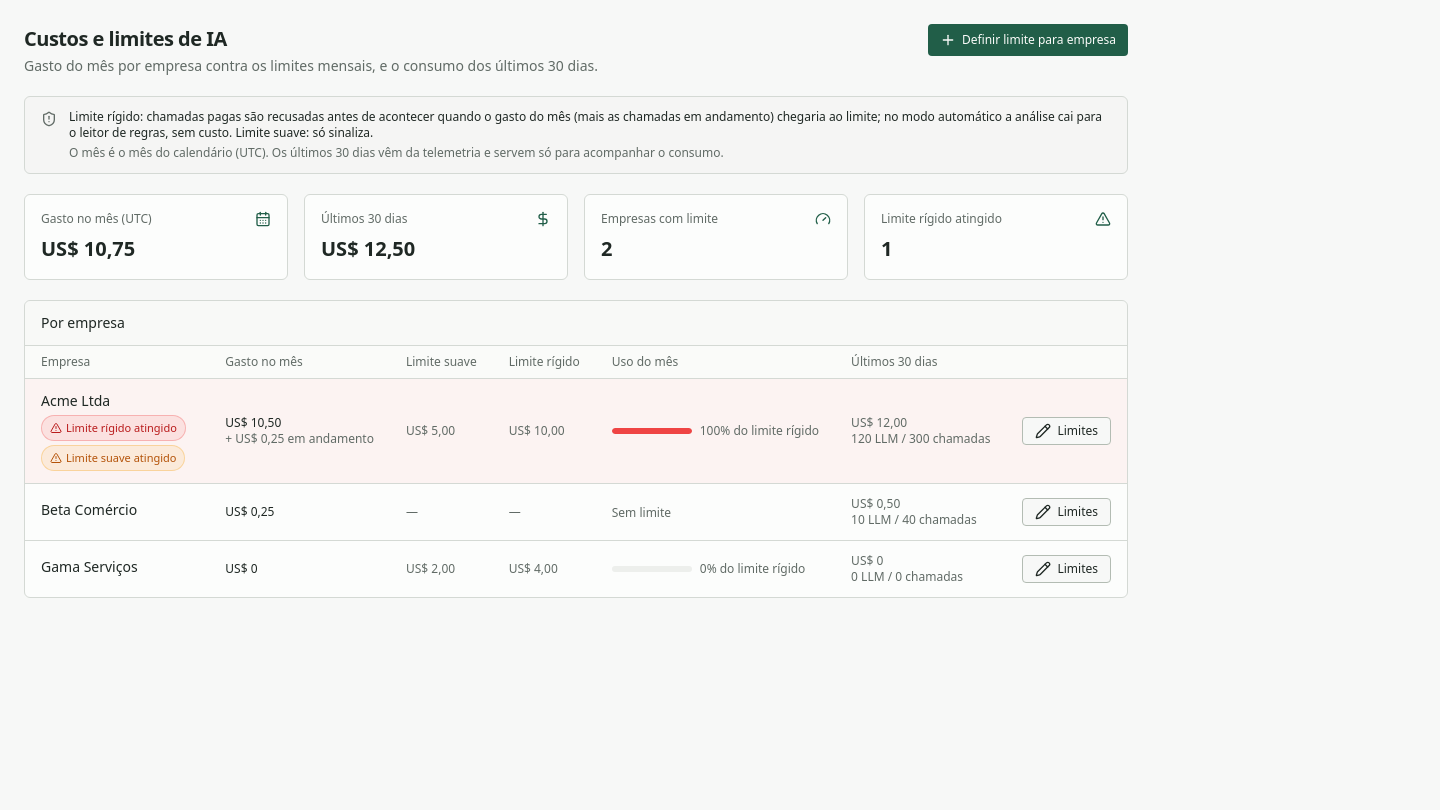
Test case: AiCostsPage › refuses a soft limit above the hard one before sending
Step 1. Click the button "Limites" in the row of "Beta Comércio" → (1067, 512), box [1022,498,1111,526]
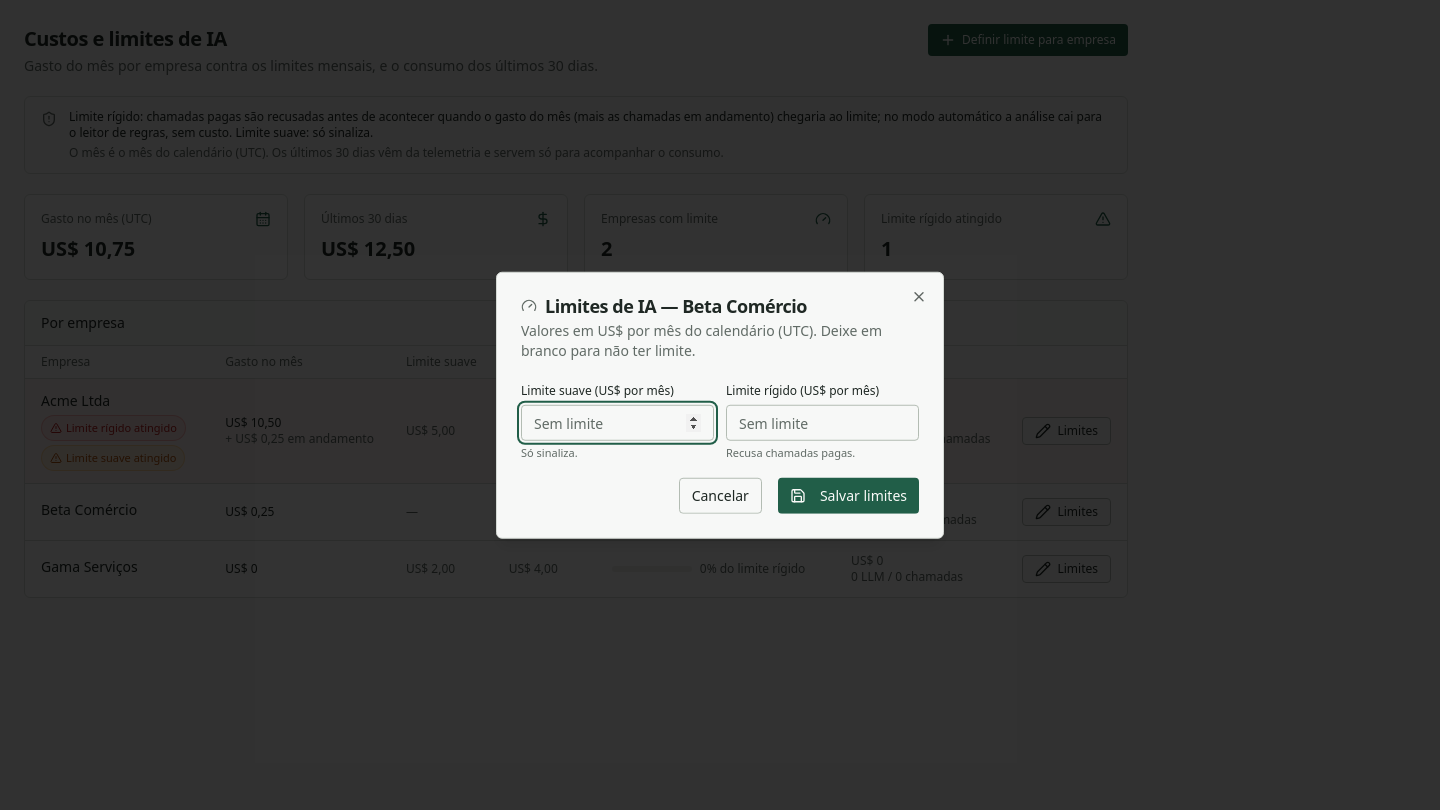
Step 2. Type "20" into the number field labelled "Limite suave (US$ por mês)" → (618, 423), box [521,405,714,441]
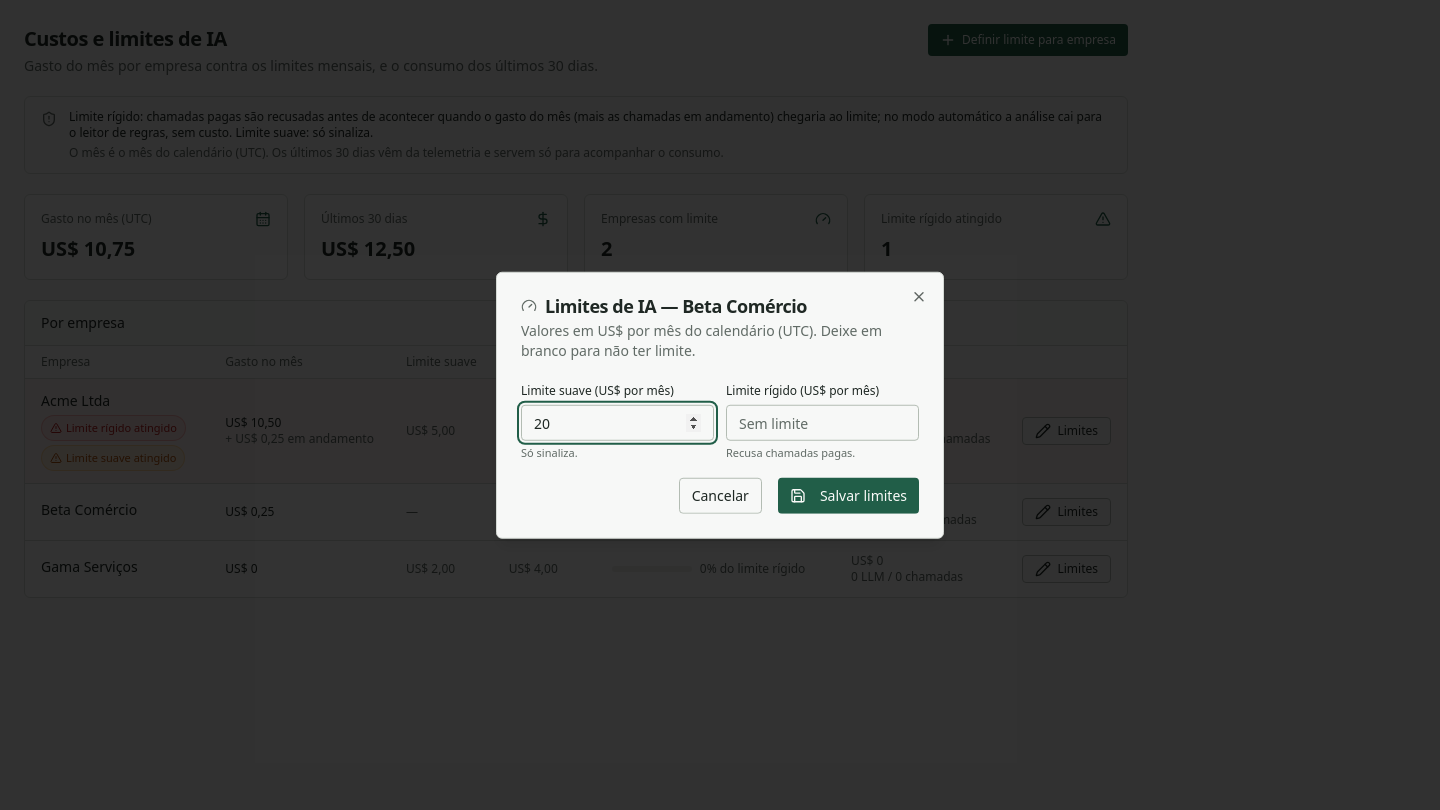
Step 3. Type "10" into the number field labelled "Limite rígido (US$ por mês)" → (822, 423), box [726,405,919,441]
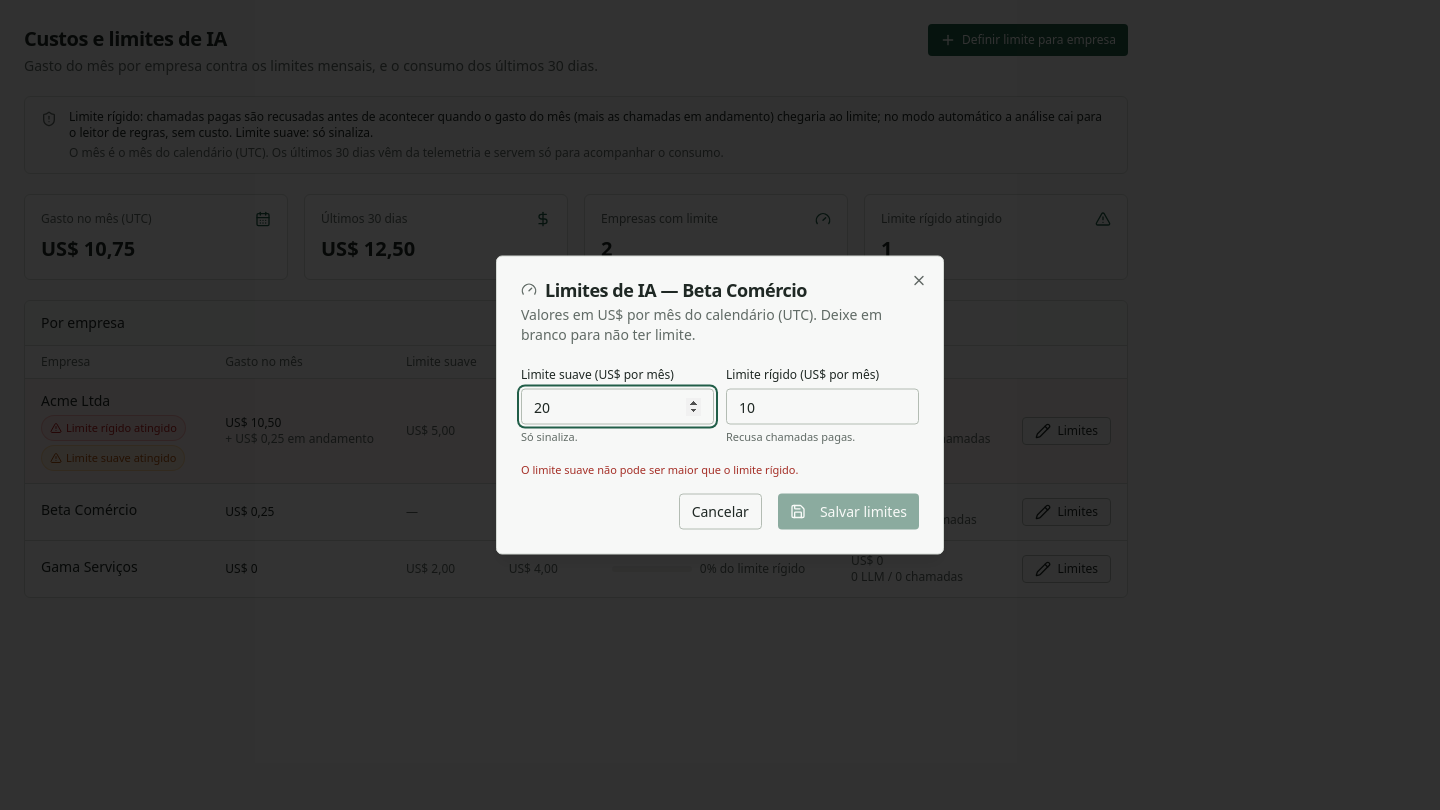
Expected: the text "O limite suave não pode ser maior que o limite rígido." is shown, [521,461,798,476]
Expected: the button "Salvar limites" is disabled, [778,494,919,530]
Step 4. Replace the text in the number field labelled "Limite rígido (US$ por mês)" with "-1" → (822, 406), box [726,388,919,424]
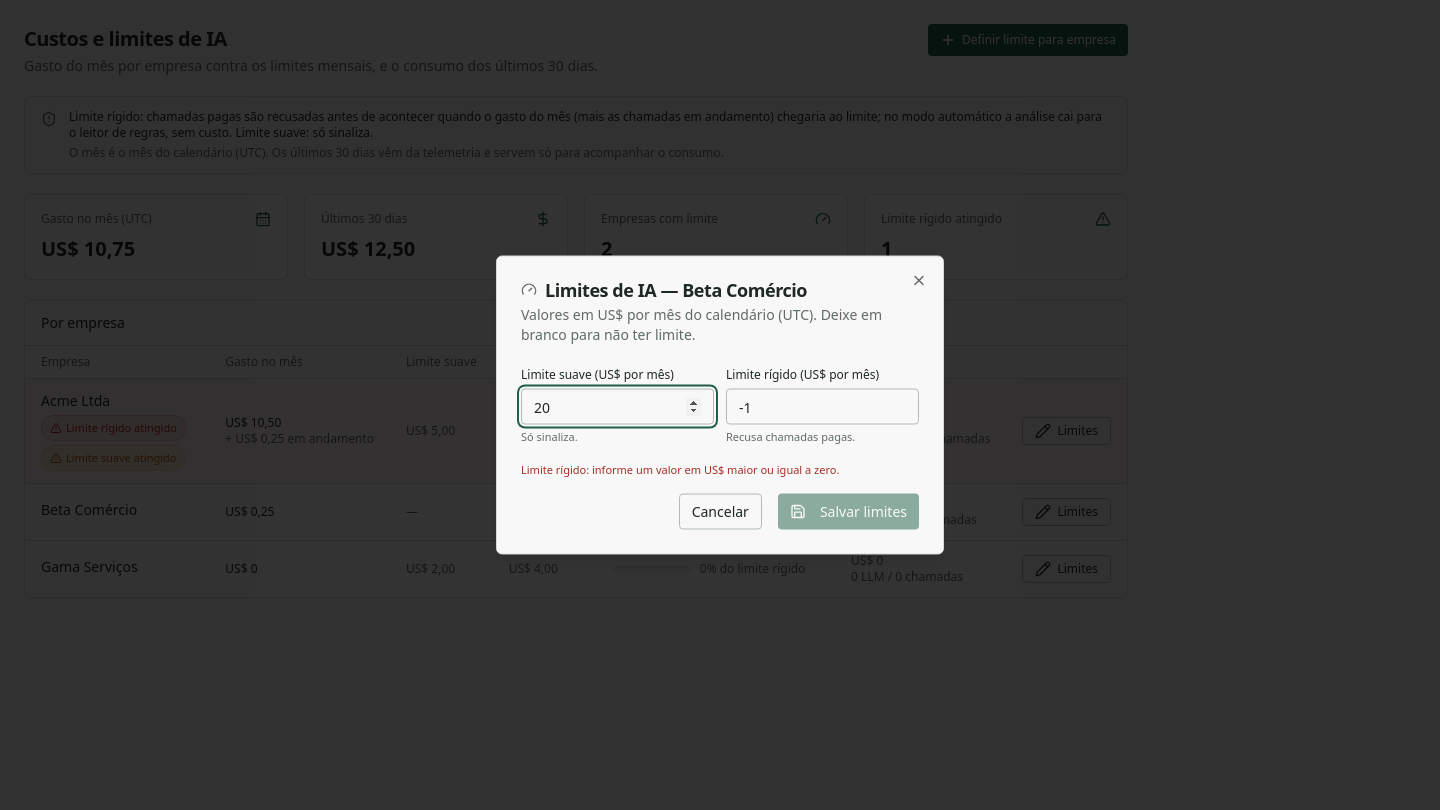
Expected: the text "Limite rígido: informe um valor em US$ maior ou igual a zero" is shown, [521,461,839,476]
Step 5. Replace the text in the number field labelled "Limite rígido (US$ por mês)" with "2000000" → (822, 406), box [726,388,919,424]
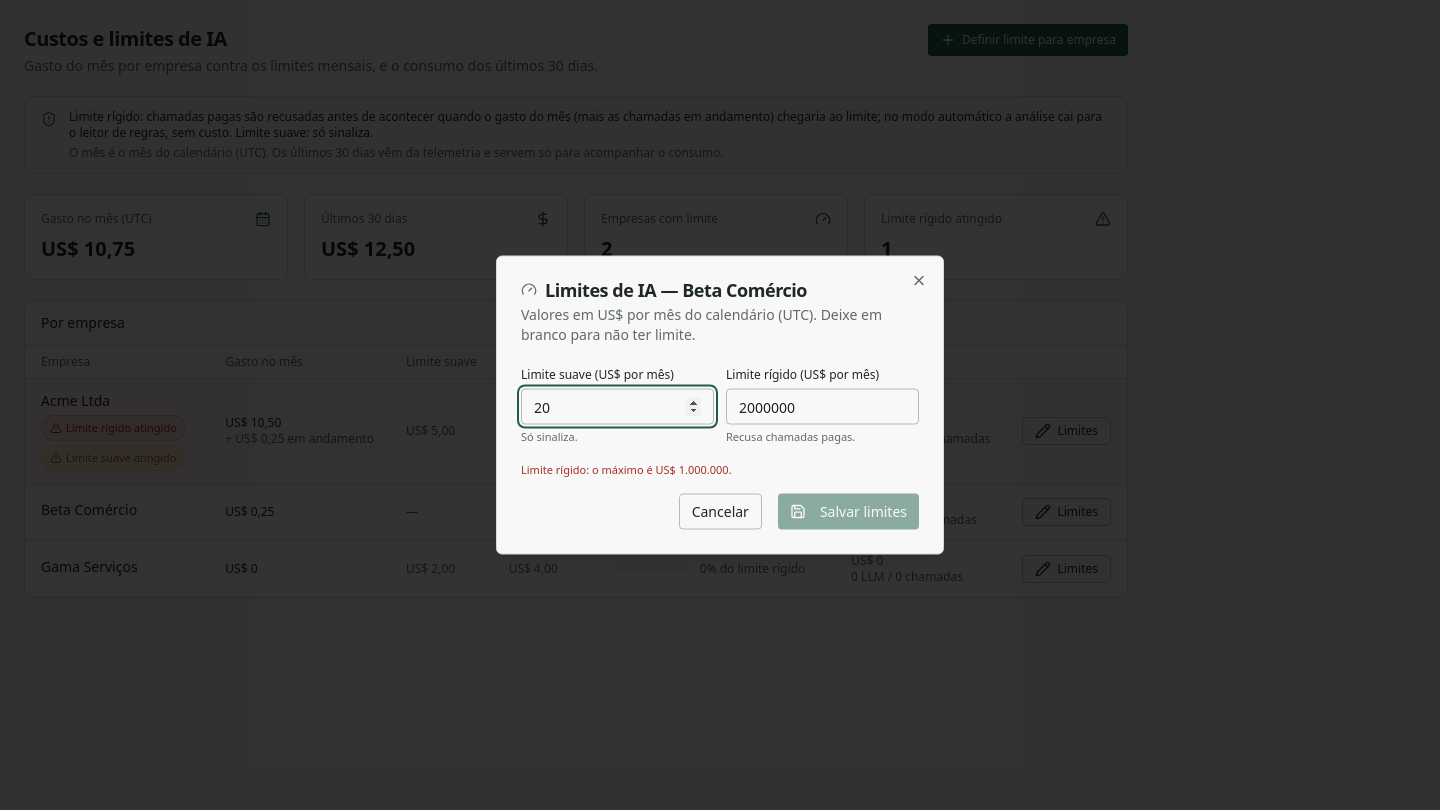
Expected: the text "Limite rígido: o máximo é US$ 1.000.000." is shown, [521,461,732,476]
